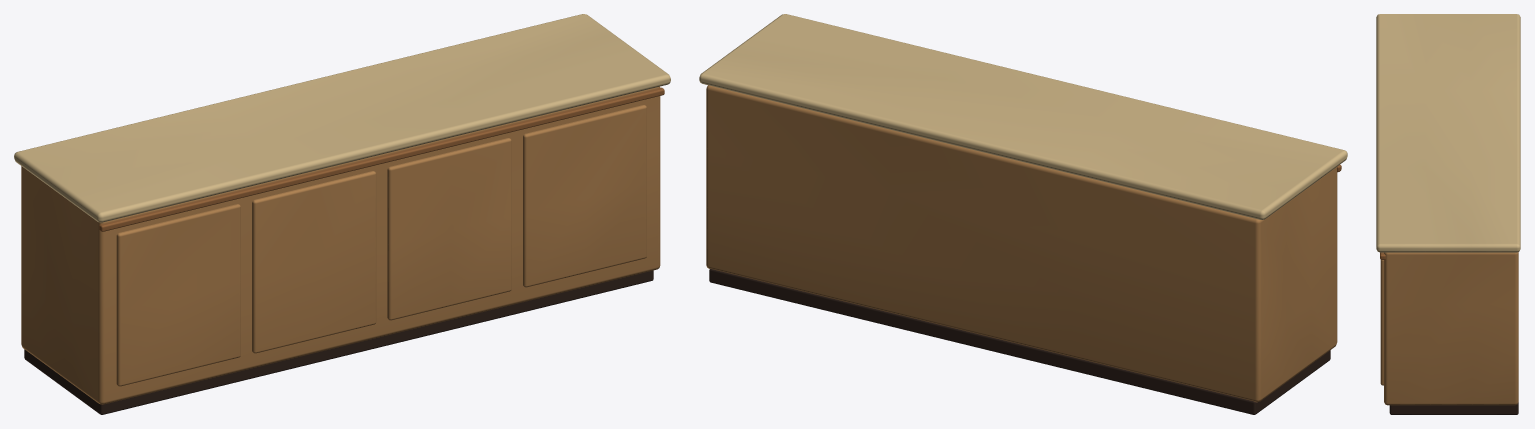
File: furn_counter_shop.glb
3 renders of one model, left to right at view 1: azimuth 30°, elevation 25°; view 2: azimuth 150°, elevation 25°; view 3: azimuth 270°, elevation 25°, orthographic. The views are drawn at different scales.
Visible parts, largest first — view 1: furn_counter_shop_main; view 2: furn_counter_shop_main; view 3: furn_counter_shop_main.
Boxes of the visible parts, bbox=[...] form: furn_counter_shop_main: bbox=[14, 14, 670, 414]; furn_counter_shop_main: bbox=[699, 14, 1347, 414]; furn_counter_shop_main: bbox=[1376, 14, 1520, 414].
Size of the model in its own units: 2.86 by 1 by 0.75.
